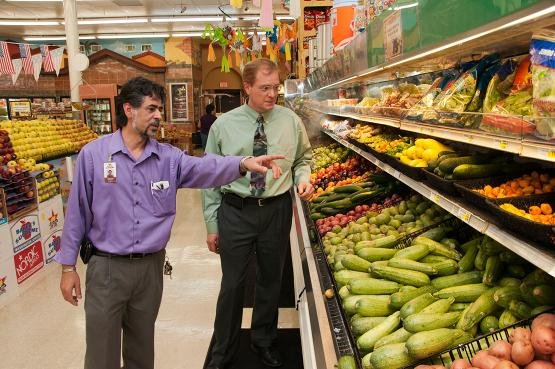Caution: (57, 56, 313, 369)
